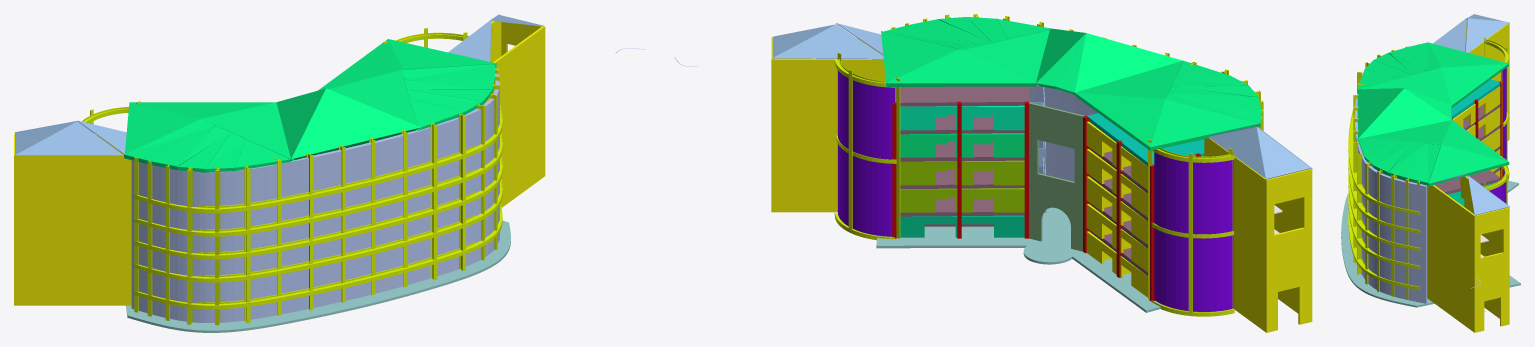
Rendered from progetto palazzina 2 modellino.glb.
The picture shows the model from 3 angles, left to right: view 1: azimuth 30°, elevation 25°; view 2: azimuth 150°, elevation 25°; view 3: azimuth 270°, elevation 25°; orthographic projection. The views are drawn at different scales.
Visible parts, largest first — view 1: Obj_Layer:ascensore, Layer:acciaio vetratta, Obj_Layer:tetto, Layer:scale parete, Obj_Layer:basamento, Obj_Layer:0; view 2: Obj_Layer:tetto, Layer:scale parete, Layer:vetrata asc, Layer:solaio, Obj_Layer:sviluppo par 3d, Obj_Layer:0, Obj_Layer:basamento, Layer:acciaio vetratta, Obj_Layer:muro ingrsso, Layer:struttura portante, Layer:terzopiano, Layer:quinto piano (+5 smaller); view 3: Obj_Layer:tetto, Layer:scale parete, Obj_Layer:ascensore, Layer:acciaio vetratta, Obj_Layer:0, Obj_Layer:basamento, Obj_Layer:sviluppo par 3d, Layer:solaio, Layer:solaio ultimo, Layer:vetrata asc, Layer:struttura portante, Layer:quinto piano.
Part boxes in pixels (x1,y1,x2,y2): Obj_Layer:ascensore: [131, 48, 645, 322]; Layer:acciaio vetratta: [81, 28, 502, 325]; Obj_Layer:tetto: [124, 39, 496, 172]; Layer:scale parete: [14, 21, 545, 305]; Obj_Layer:basamento: [126, 221, 510, 332]; Obj_Layer:0: [14, 14, 543, 155]; Obj_Layer:tetto: [881, 17, 1261, 150]; Layer:scale parete: [771, 37, 1312, 332]; Layer:vetrata asc: [838, 70, 1233, 311]; Layer:solaio: [895, 86, 1147, 275]; Obj_Layer:sviluppo par 3d: [1086, 121, 1147, 297]; Obj_Layer:0: [772, 23, 1312, 212]; Obj_Layer:basamento: [876, 207, 1163, 312]; Layer:acciaio vetratta: [834, 14, 1263, 316]; Obj_Layer:muro ingrsso: [1029, 102, 1084, 251]; Layer:struttura portante: [892, 101, 1200, 301]; Layer:terzopiano: [900, 160, 1024, 185]; Layer:quinto piano: [900, 105, 1024, 130]; Obj_Layer:tetto: [1357, 42, 1509, 186]; Layer:scale parete: [1427, 20, 1509, 332]; Obj_Layer:ascensore: [1354, 80, 1480, 303]; Layer:acciaio vetratta: [1348, 36, 1509, 299]; Obj_Layer:0: [1375, 14, 1509, 215]; Obj_Layer:basamento: [1341, 180, 1520, 307]; Obj_Layer:sviluppo par 3d: [1452, 86, 1500, 176]; Layer:solaio: [1412, 104, 1500, 194]; Layer:solaio ultimo: [1451, 79, 1500, 118]; Layer:vetrata asc: [1489, 68, 1506, 203]; Layer:struttura portante: [1377, 81, 1503, 180]; Layer:quinto piano: [1382, 173, 1494, 206].
Bounding box in the file's own units: 2173 × 624 × 690.
